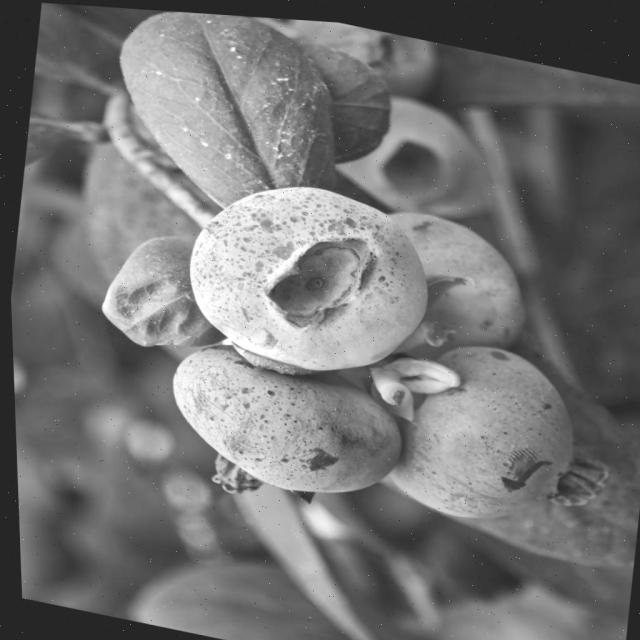Semi-RipeBlueBerry: (177, 160, 435, 384), (392, 330, 614, 550), (158, 344, 404, 510)
